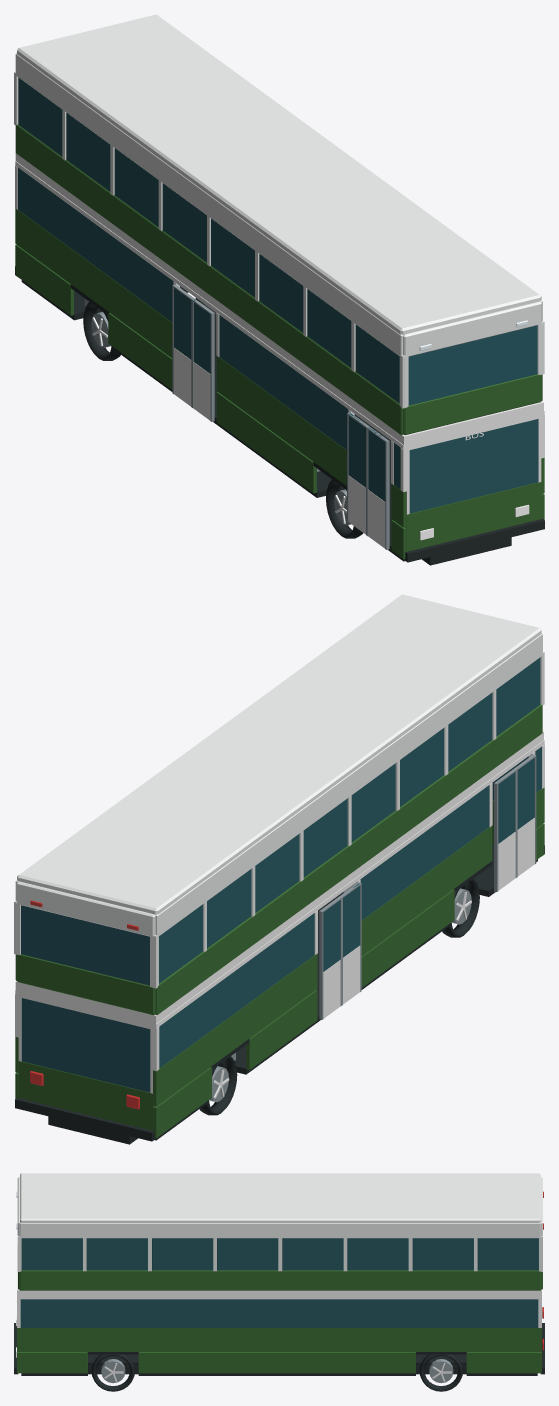
File: sg-bus-double-hd.glb
3 views of the same model, one above another, from view 1: azimuth 30°, elevation 25°; view 2: azimuth 150°, elevation 25°; view 3: azimuth 270°, elevation 25° (orthographic). The views are drawn at different scales.
Visible parts, largest first — view 1: body, wheel_RL, wheel_FL; view 2: body, wheel_FL, wheel_RL; view 3: body, wheel_FR, wheel_RR.
Part boxes in pixels (x1=…): body: x1=14, y1=14, x2=544, y2=565; wheel_RL: x1=83, y1=302, x2=120, y2=360; wheel_FL: x1=326, y1=479, x2=362, y2=538; body: x1=14, y1=594, x2=544, y2=1144; wheel_FL: x1=442, y1=878, x2=479, y2=937; wheel_RL: x1=199, y1=1056, x2=237, y2=1115; body: x1=14, y1=1173, x2=544, y2=1375; wheel_FR: x1=91, y1=1354, x2=134, y2=1391; wheel_RR: x1=419, y1=1354, x2=462, y2=1391.
Bounding box in the file's own units: 2.58 × 4.4 × 12.
